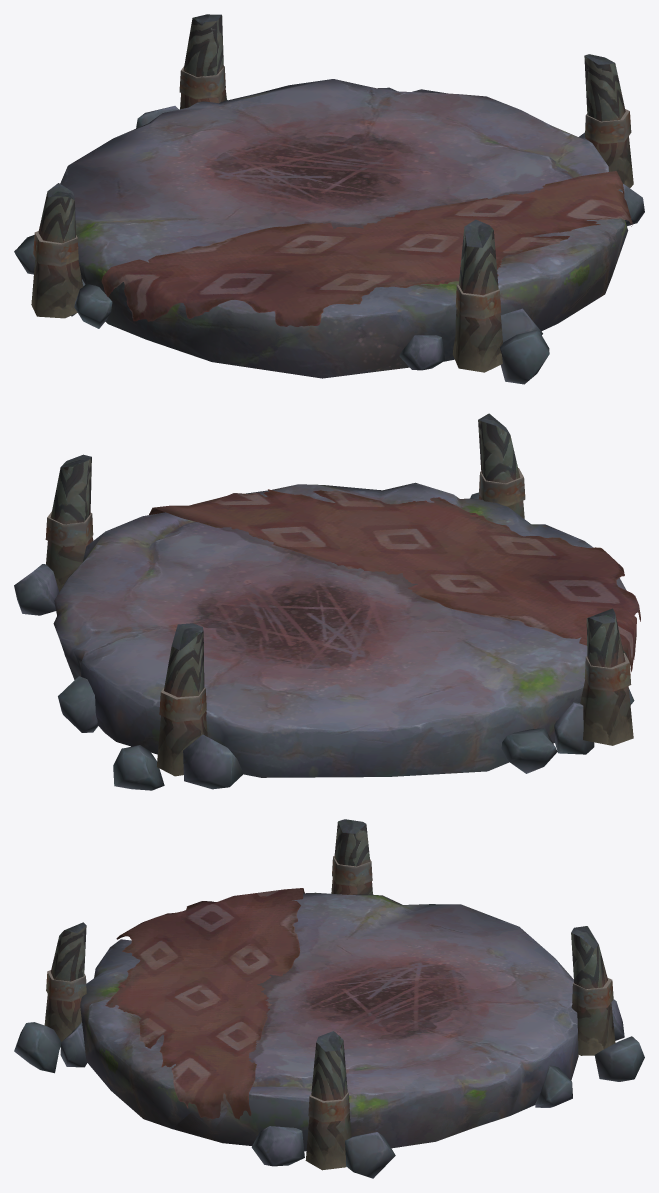
File: hilichurl-stone-platform.fbx
The picture shows the model from 3 angles, top to bottom: view 1: azimuth 30°, elevation 25°; view 2: azimuth 150°, elevation 25°; view 3: azimuth 270°, elevation 25°; orthographic projection. The views are drawn at different scales.
Parts seen in each view (by area): view 1: Area_Common_Build_Hili_House_17_Lod0; view 2: Area_Common_Build_Hili_House_17_Lod0; view 3: Area_Common_Build_Hili_House_17_Lod0.
Part boxes in pixels (left/top/right/bottom): Area_Common_Build_Hili_House_17_Lod0: left=14, top=14, right=644, bottom=384; Area_Common_Build_Hili_House_17_Lod0: left=14, top=413, right=640, bottom=790; Area_Common_Build_Hili_House_17_Lod0: left=14, top=819, right=644, bottom=1178.
Bounding box in the file's own units: 524 × 131 × 539.
Materials: 3 (3 with a texture image).
